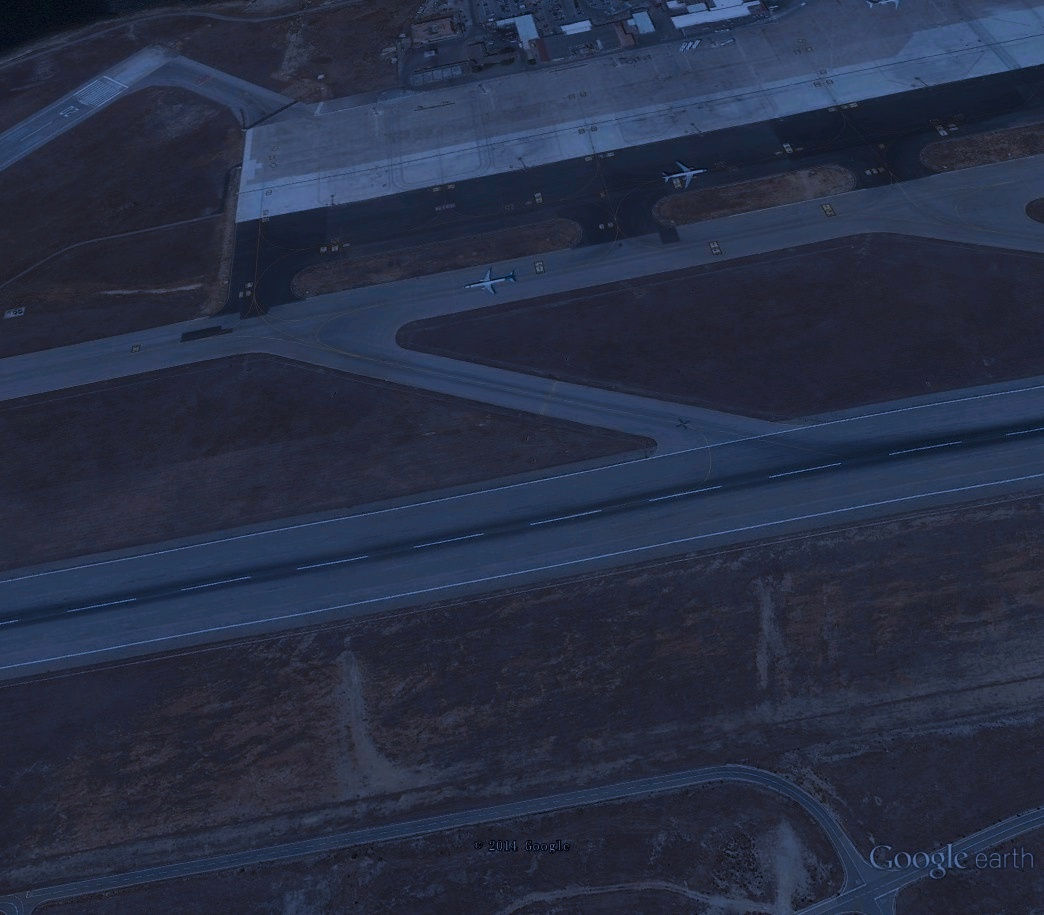aircraft: (460, 265, 522, 298), (657, 159, 712, 193)
